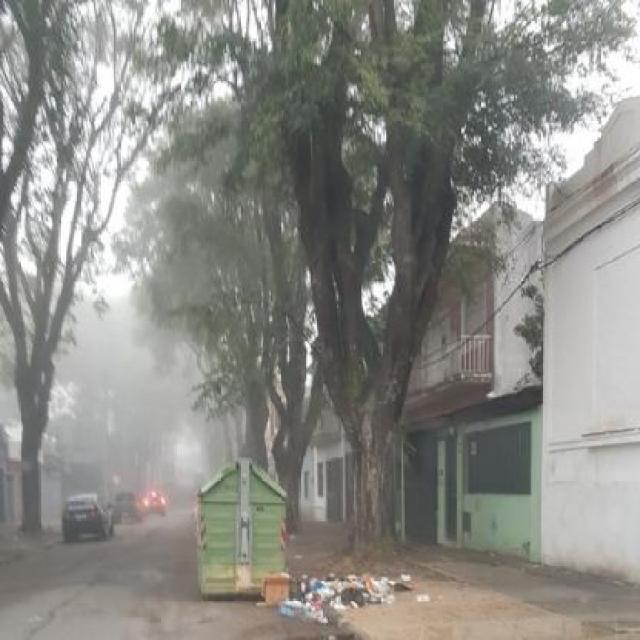garbage: (254, 565, 438, 622)
